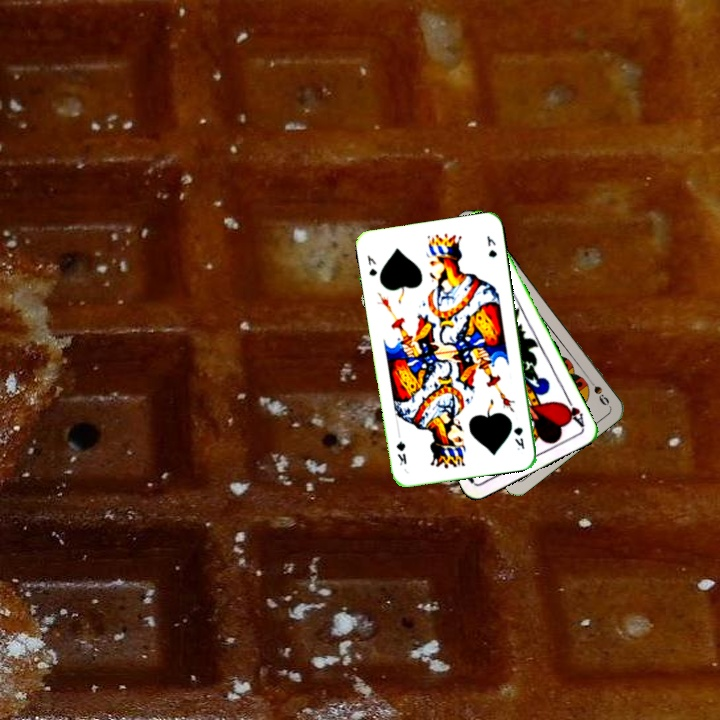GK: (510, 423, 527, 452), (363, 251, 380, 278)
HA: (558, 391, 587, 429)
S9: (583, 373, 612, 408)
